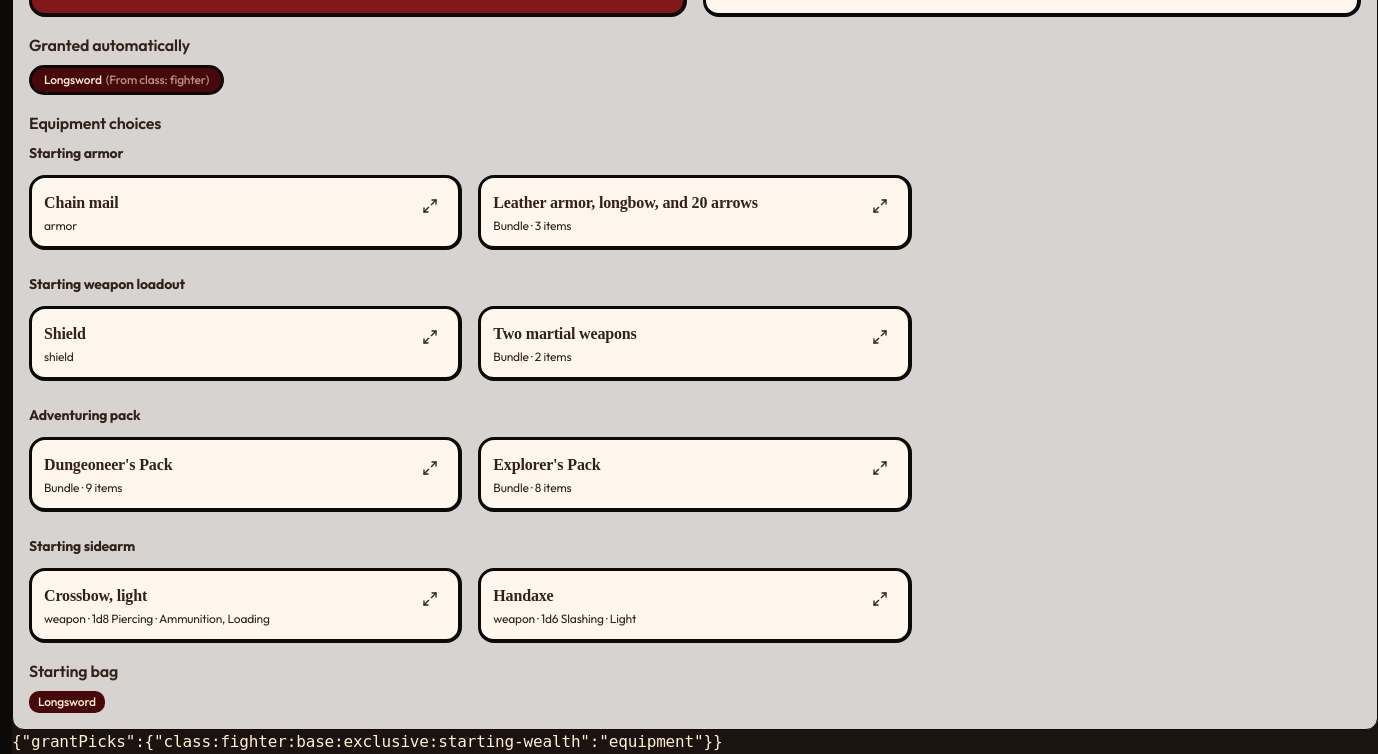
Test: StartingEquipmentField › updates bag preview when sidearm is selected
(page scrolled)
Click the button "Crossbow, light weapon · 1d8 Piercing · Ammunition, Loading": (96, 596) [44, 583, 406, 627]
(page scrolled)
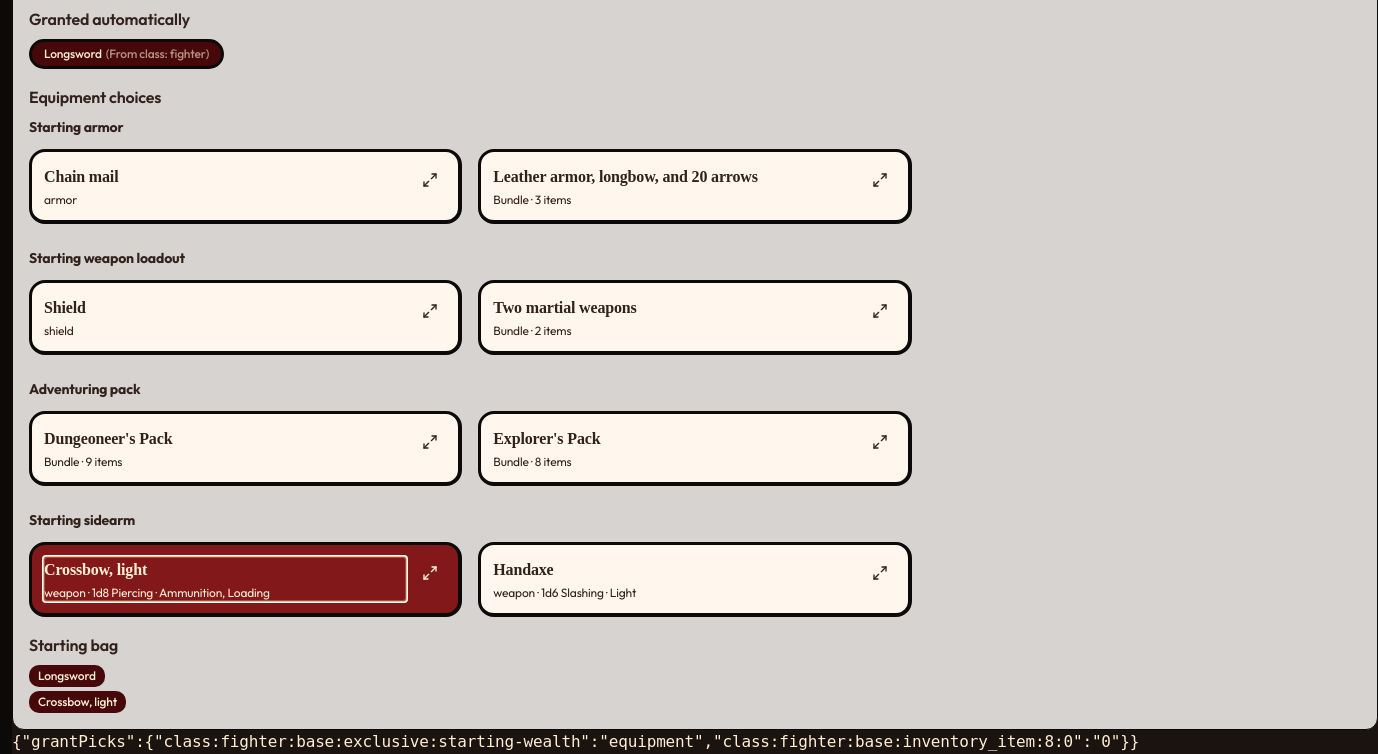
Expected: the text "Crossbow, light" below "Starting sidearm" is shown, [44, 561, 147, 578]
Expected: the text with test id "choices-output" shows "class:fighter:base:inventory_item:8:0", [12, 732, 1139, 751]
